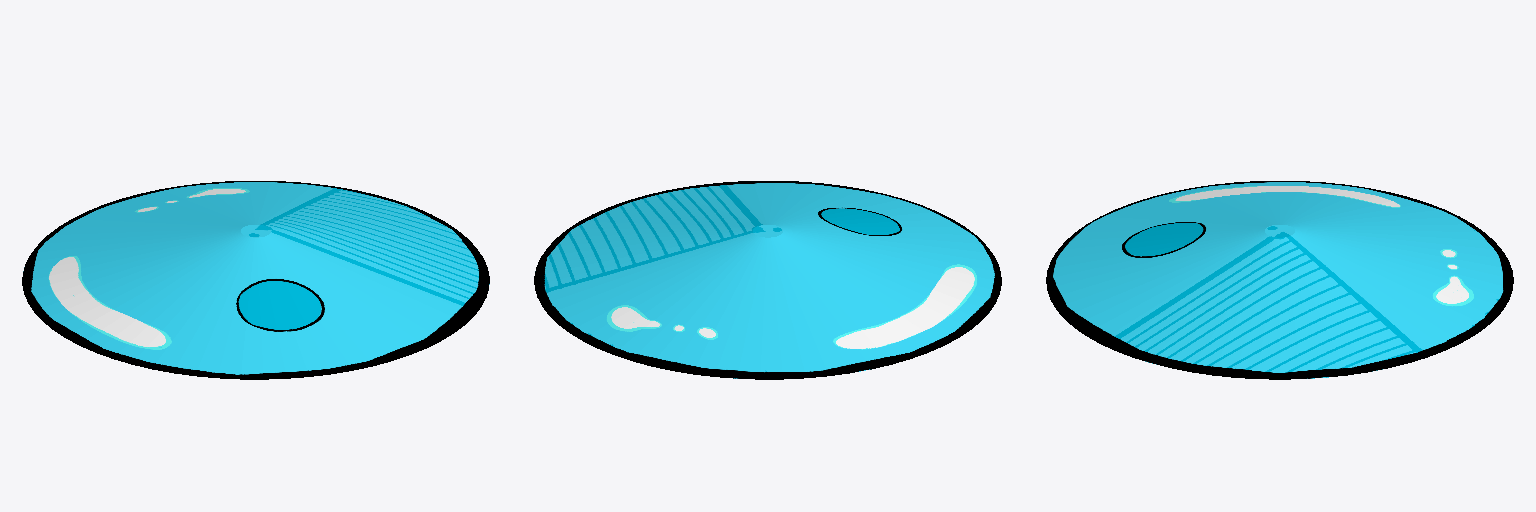
3 views of the same model, side by side, from view 1: azimuth 30°, elevation 25°; view 2: azimuth 150°, elevation 25°; view 3: azimuth 270°, elevation 25° (orthographic).
Visible parts, largest first — view 1: drumsetV4_Hi-Hat_Cylinder.022; view 2: drumsetV4_Hi-Hat_Cylinder.022; view 3: drumsetV4_Hi-Hat_Cylinder.022.
Boxes of the visible parts, x1=… form: drumsetV4_Hi-Hat_Cylinder.022: x1=22, y1=181, x2=489, y2=379; drumsetV4_Hi-Hat_Cylinder.022: x1=534, y1=181, x2=1001, y2=379; drumsetV4_Hi-Hat_Cylinder.022: x1=1046, y1=181, x2=1513, y2=379.
Bounding box in the file's own units: 0.8717 × 0.1022 × 0.8717.
1 materials, 1 textured.